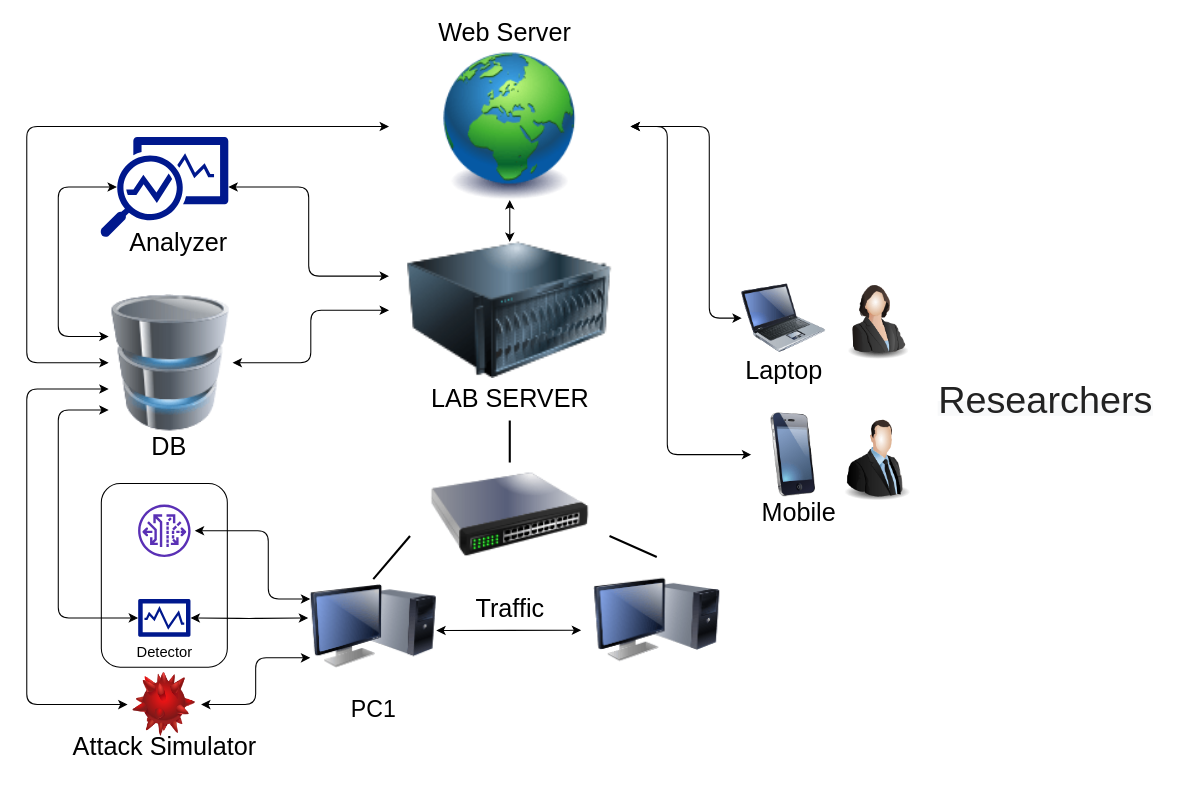
Some shapes in this 1179 by 794 pixel diagram are drawn without their labels. Here are the shapes that lost their labels. From the top down, the box of each, then its label:
(138, 504, 190, 556): Normal Simulations
(593, 556, 719, 682): PC2
